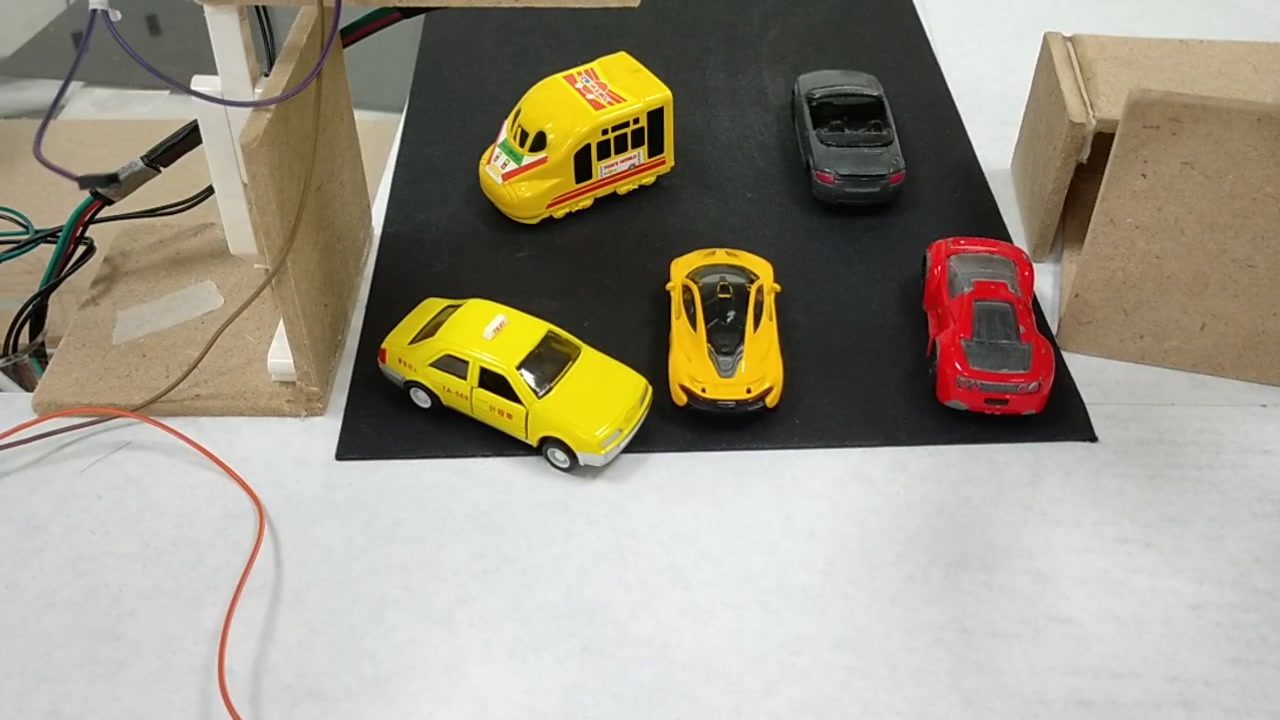car: (366, 287, 653, 478), (926, 236, 1056, 418), (668, 252, 785, 415), (787, 67, 905, 203)
